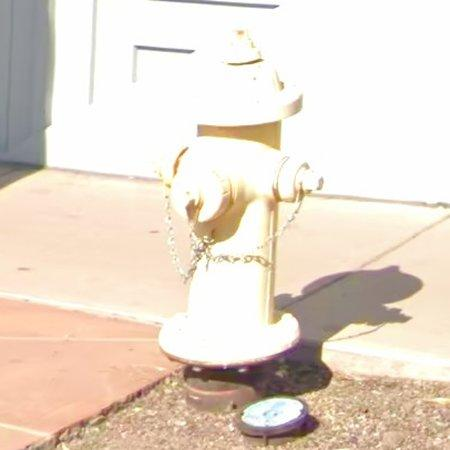a fire hydrant: (160, 29, 324, 369)
